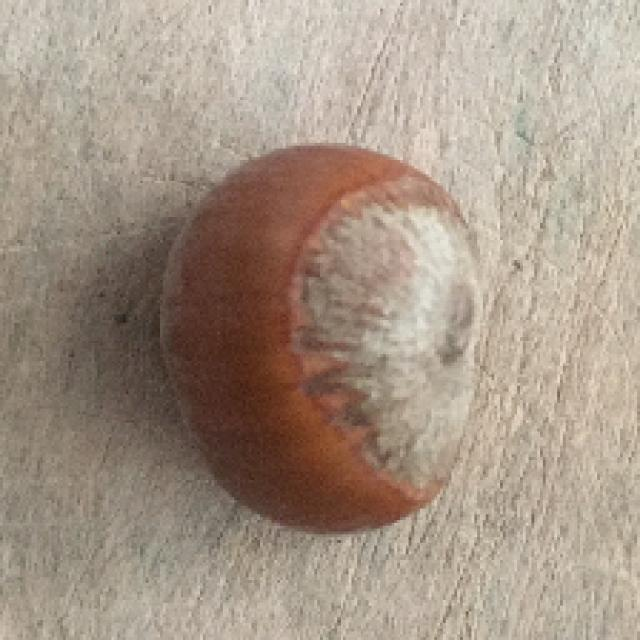qualityHazelnut: (163, 138, 480, 531)
